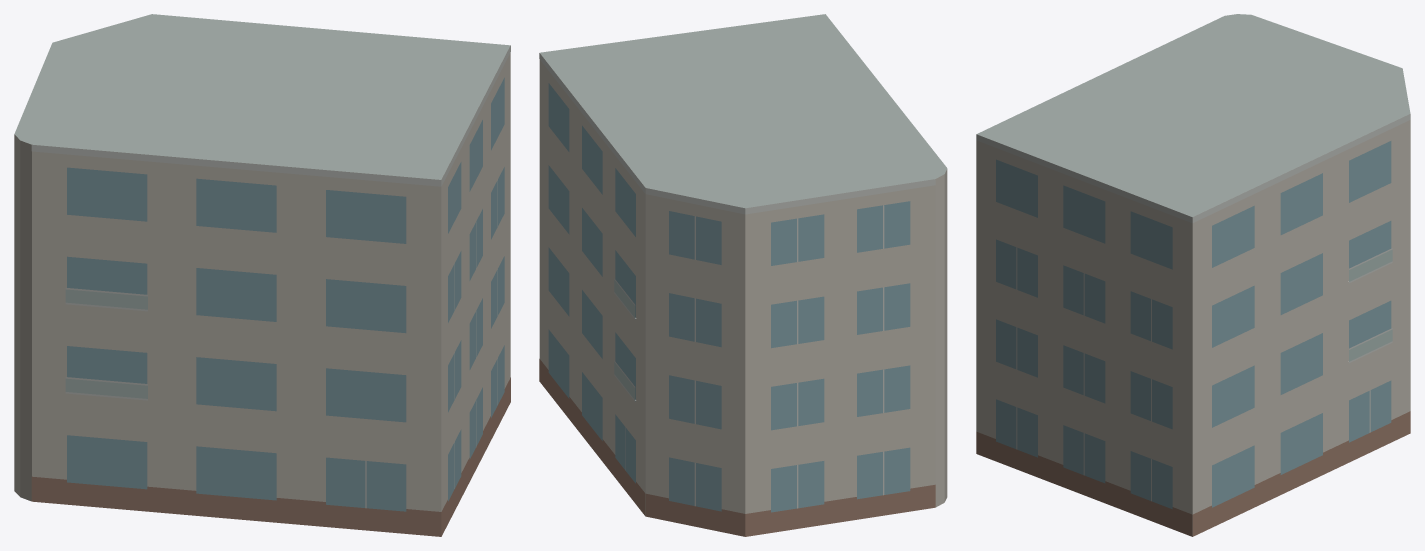
File: survey-upis-32523574.glb
The picture shows the model from 3 angles, left to right: view 1: azimuth 30°, elevation 25°; view 2: azimuth 150°, elevation 25°; view 3: azimuth 270°, elevation 25°; orthographic projection. The views are drawn at different scales.
Parts seen in each view (by area): view 1: survey-upis-32523574.tmp; view 2: survey-upis-32523574.tmp; view 3: survey-upis-32523574.tmp.
Boxes of the visible parts, x1,y1,x2,y2 form: survey-upis-32523574.tmp: [14, 14, 510, 536]; survey-upis-32523574.tmp: [539, 14, 947, 536]; survey-upis-32523574.tmp: [976, 14, 1410, 536].
Size of the model in its own units: 17.6 by 12.9 by 15.89.
